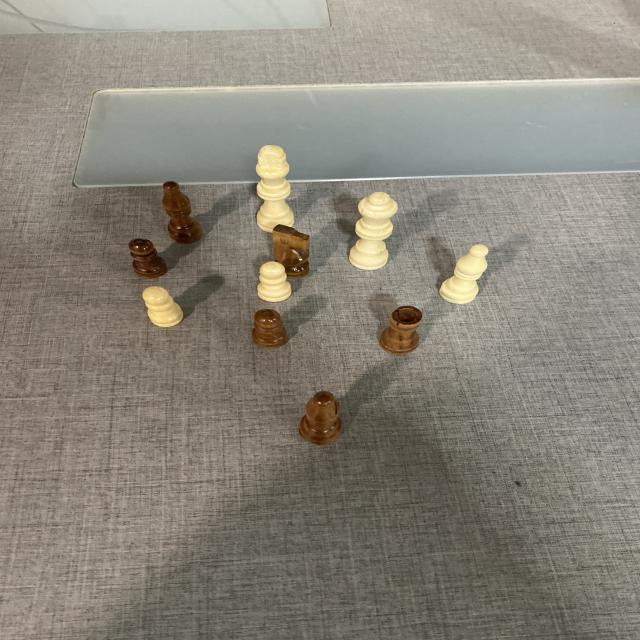Black-Bishop: (161, 180, 203, 244), (299, 389, 344, 447)
Black-Knight: (268, 224, 312, 280)
Black-Pawn: (126, 238, 169, 278), (251, 308, 291, 348)
Black-Rook: (379, 306, 424, 355)
White-Bishop: (440, 242, 491, 306)
White-King: (256, 145, 296, 233)
White-Pawn: (141, 286, 186, 328), (255, 262, 293, 304)
White-Queen: (348, 191, 400, 271)
